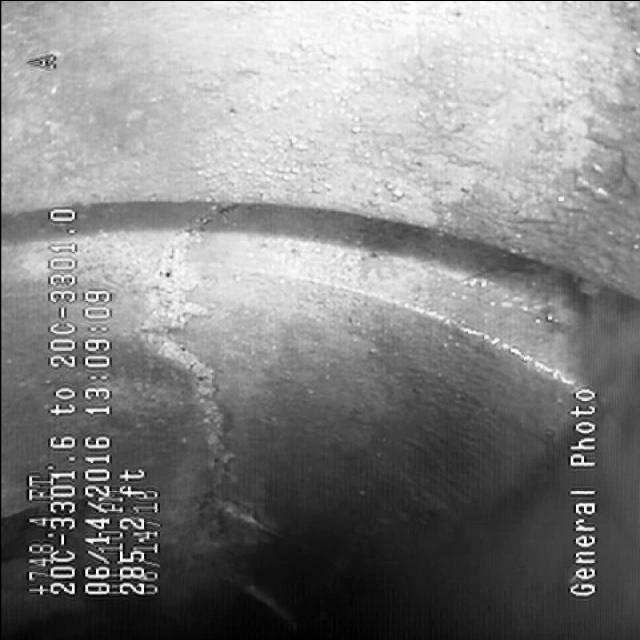Crack: (144, 222, 254, 443)
